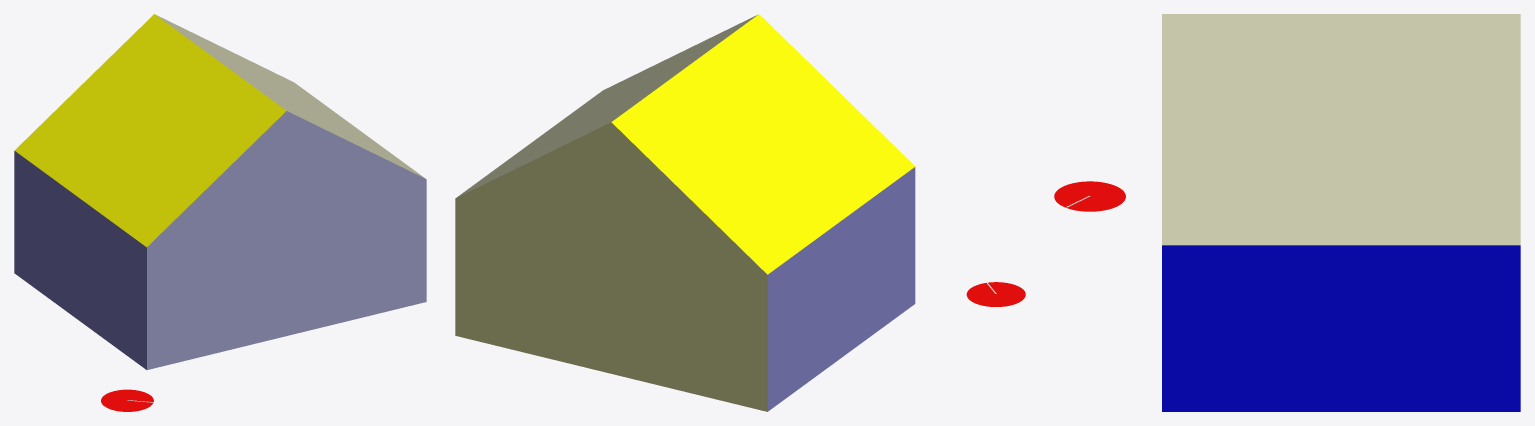
The model's file is result.glb.
3 renders of one model, left to right at view 1: azimuth 30°, elevation 25°; view 2: azimuth 150°, elevation 25°; view 3: azimuth 270°, elevation 25°, orthographic. The views are drawn at different scales.
Parts seen in each view (by area): view 1: 7d452635-a557-49d9-b55c-f0a4b24c1987__undefined, 3e77da42-1d68-4c4b-84e3-49c9c216faab__undefined, b3cd3784-6079-45a4-a000-5fbaa5d4c1a5__undefined, d4fe53d0-6ee6-4bc4-8644-dbaf661128d7__undefined, b4afcdbd-1e0a-4d72-aeb5-be5d63badb55__Circle; view 2: 6aeba51d-5d85-40db-905e-33d29f1726c5__undefined, 3e77da42-1d68-4c4b-84e3-49c9c216faab__undefined, b3cd3784-6079-45a4-a000-5fbaa5d4c1a5__undefined, d4fe53d0-6ee6-4bc4-8644-dbaf661128d7__undefined, b4afcdbd-1e0a-4d72-aeb5-be5d63badb55__Circle; view 3: d4fe53d0-6ee6-4bc4-8644-dbaf661128d7__undefined, 0f968918-012b-4e1a-ad80-19ba4759aacd__undefined, b4afcdbd-1e0a-4d72-aeb5-be5d63badb55__Circle.
Boxes of the visible parts, x1=… form: 7d452635-a557-49d9-b55c-f0a4b24c1987__undefined: x1=147, y1=111, x2=426, y2=369; 3e77da42-1d68-4c4b-84e3-49c9c216faab__undefined: x1=14, y1=14, x2=286, y2=247; b3cd3784-6079-45a4-a000-5fbaa5d4c1a5__undefined: x1=14, y1=151, x2=146, y2=369; d4fe53d0-6ee6-4bc4-8644-dbaf661128d7__undefined: x1=155, y1=14, x2=425, y2=178; b4afcdbd-1e0a-4d72-aeb5-be5d63badb55__Circle: x1=101, y1=389, x2=153, y2=411; 6aeba51d-5d85-40db-905e-33d29f1726c5__undefined: x1=455, y1=122, x2=767, y2=411; 3e77da42-1d68-4c4b-84e3-49c9c216faab__undefined: x1=611, y1=14, x2=914, y2=274; b3cd3784-6079-45a4-a000-5fbaa5d4c1a5__undefined: x1=767, y1=167, x2=915, y2=411; d4fe53d0-6ee6-4bc4-8644-dbaf661128d7__undefined: x1=456, y1=15, x2=757, y2=197; b4afcdbd-1e0a-4d72-aeb5-be5d63badb55__Circle: x1=966, y1=282, x2=1025, y2=306; d4fe53d0-6ee6-4bc4-8644-dbaf661128d7__undefined: x1=1162, y1=14, x2=1520, y2=245; 0f968918-012b-4e1a-ad80-19ba4759aacd__undefined: x1=1162, y1=245, x2=1520, y2=411; b4afcdbd-1e0a-4d72-aeb5-be5d63badb55__Circle: x1=1054, y1=181, x2=1125, y2=211.
Bounding box in the file's own units: 760 × 469 × 650.
